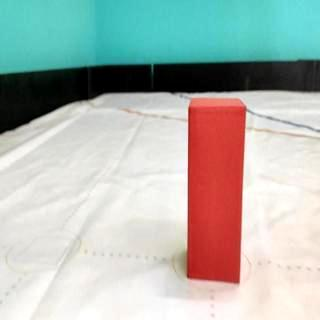redbox: (188, 98, 242, 283)
